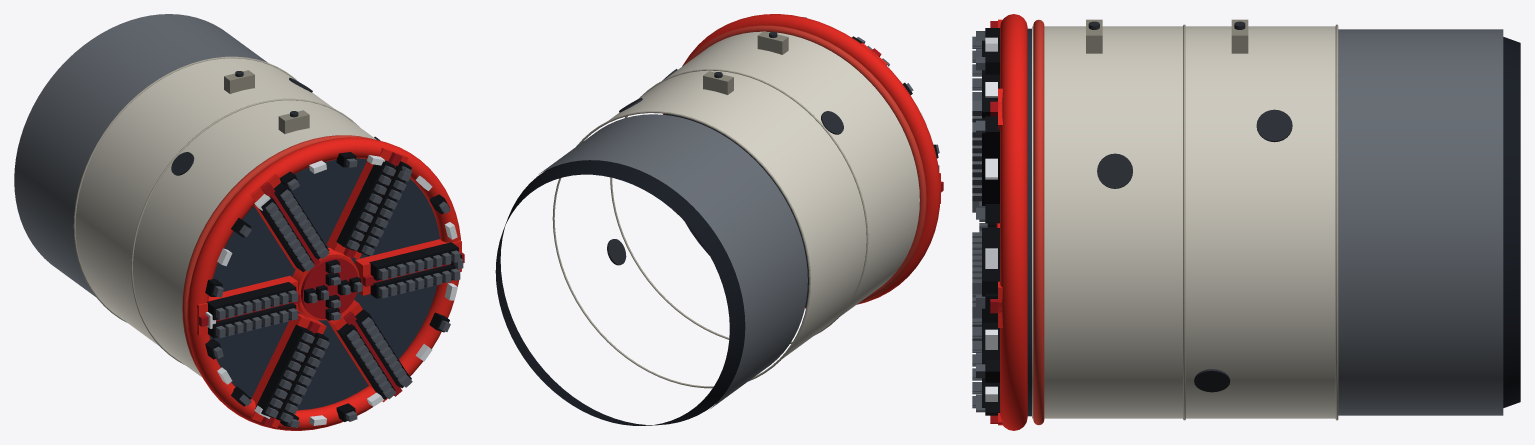
File: prem-tbm-head.glb
3 views of the same model, side by side, from view 1: azimuth 30°, elevation 25°; view 2: azimuth 150°, elevation 25°; view 3: azimuth 270°, elevation 25° (orthographic). The views are drawn at different scales.
Parts seen in each view (by area): view 1: CutterFace, ShieldBody, TailSkin, Shield, FrontFlange, Spoke5, Spoke2, Spoke1, Spoke4, Hub, Spoke6, Spoke3; view 2: ShieldBody, TailSkin, TailSeal, CutterFace, Shield, FrontFlange; view 3: ShieldBody, TailSkin, CutterFace, Shield, TailSeal, FrontFlange.
Boxes of the visible parts, bbox=[...] form: CutterFace: bbox=[187, 137, 464, 430]; ShieldBody: bbox=[75, 58, 376, 377]; TailSkin: bbox=[14, 14, 267, 296]; Shield: bbox=[73, 56, 380, 365]; FrontFlange: bbox=[182, 135, 371, 375]; Spoke5: bbox=[250, 313, 326, 427]; Spoke2: bbox=[326, 147, 408, 259]; Spoke1: bbox=[355, 239, 461, 295]; Spoke4: bbox=[197, 276, 297, 335]; Hub: bbox=[292, 247, 359, 320]; Spoke6: bbox=[327, 300, 400, 402]; Spoke3: bbox=[250, 173, 302, 273]; ShieldBody: bbox=[609, 31, 919, 358]; TailSkin: bbox=[538, 114, 807, 408]; TailSeal: bbox=[495, 160, 745, 425]; CutterFace: bbox=[664, 14, 943, 306]; Shield: bbox=[552, 31, 868, 388]; FrontFlange: bbox=[663, 25, 926, 308]; ShieldBody: bbox=[1032, 26, 1335, 418]; TailSkin: bbox=[1338, 29, 1503, 415]; CutterFace: bbox=[972, 14, 1031, 430]; Shield: bbox=[1086, 19, 1338, 420]; TailSeal: bbox=[1503, 37, 1520, 407]; FrontFlange: bbox=[1033, 19, 1044, 425].
Bounding box in the file's own units: 6.02 × 6.17 × 7.91.
